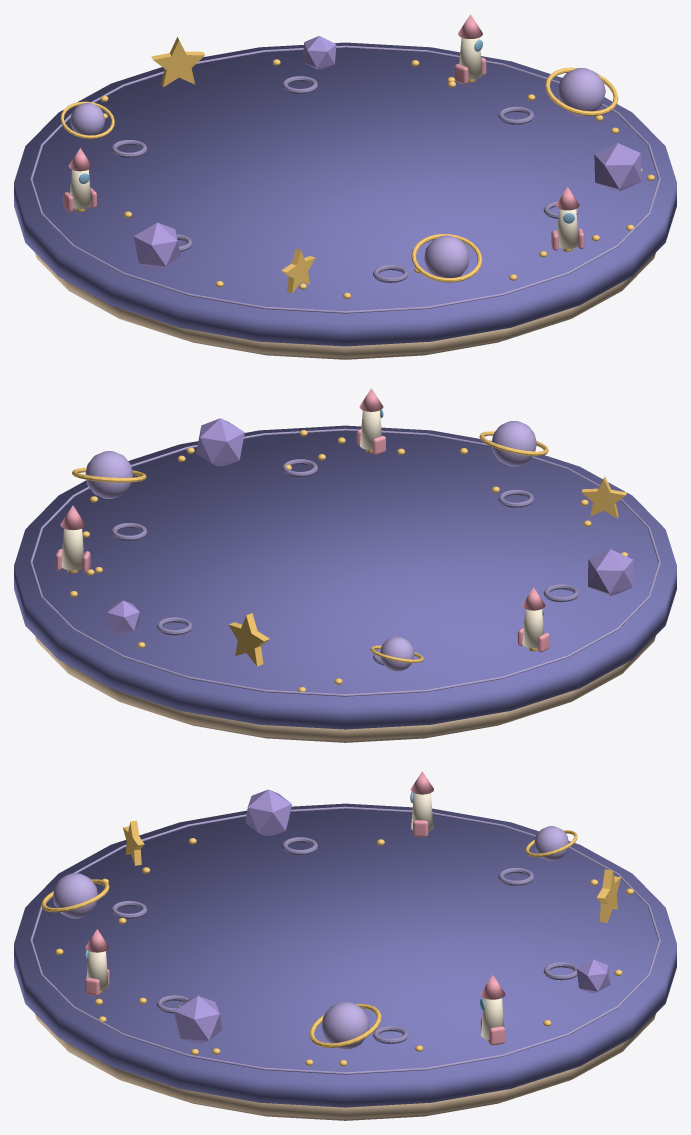
The model's file is world.glb.
The picture shows the model from 3 angles, top to bottom: view 1: azimuth 30°, elevation 25°; view 2: azimuth 150°, elevation 25°; view 3: azimuth 270°, elevation 25°; orthographic projection.
Parts seen in each view (by area): view 1: Cone, Cone.001, Torus.141, planet.001, planet.003, gem.003, gem.002, rocket.001, planet.002, rocket.003, rocket.002, star.001 (+3 smaller); view 2: Cone, Cone.001, Torus.141, planet.001, planet.003, gem.003, gem.002, rocket.001, rocket.002, rocket.003, planet.002, star.001 (+3 smaller); view 3: Cone, Cone.001, Torus.141, planet.001, planet.003, gem.003, gem.002, rocket.001, rocket.003, rocket.002, planet.002, gem.001 (+3 smaller).
Part boxes in pixels (left/top/right/bottom): Cone: left=14, top=42, right=676, bottom=346; Cone.001: left=35, top=253, right=655, bottom=358; Torus.141: left=30, top=45, right=660, bottom=313; planet.001: left=545, top=67, right=618, bottom=115; planet.003: left=411, top=234, right=482, bottom=282; gem.003: left=594, top=143, right=641, bottom=191; gem.002: left=133, top=222, right=180, bottom=268; rocket.001: left=454, top=14, right=486, bottom=84; planet.002: left=60, top=101, right=114, bottom=138; rocket.003: left=551, top=187, right=584, bottom=251; rocket.002: left=63, top=148, right=96, bottom=212; star.001: left=151, top=37, right=204, bottom=87; Cone: left=14, top=425, right=676, bottom=729; Cone.001: left=35, top=636, right=655, bottom=741; Torus.141: left=30, top=428, right=660, bottom=696; planet.001: left=72, top=451, right=146, bottom=498; planet.003: left=479, top=421, right=548, bottom=466; gem.003: left=196, top=418, right=244, bottom=466; gem.002: left=588, top=549, right=633, bottom=595; rocket.001: left=55, top=505, right=90, bottom=573; rocket.002: left=517, top=587, right=549, bottom=652; rocket.003: left=356, top=388, right=385, bottom=454; planet.002: left=370, top=636, right=423, bottom=671; star.001: left=228, top=613, right=269, bottom=666; Cone: left=14, top=803, right=676, bottom=1107; Cone.001: left=35, top=1014, right=655, bottom=1119; Torus.141: left=30, top=806, right=660, bottom=1074; planet.001: left=309, top=1002, right=381, bottom=1049; planet.003: left=41, top=873, right=109, bottom=918; gem.003: left=174, top=996, right=221, bottom=1043; gem.002: left=245, top=789, right=291, bottom=835; rocket.001: left=480, top=975, right=505, bottom=1045; rocket.003: left=85, top=929, right=109, bottom=995; rocket.002: left=410, top=771, right=433, bottom=837; planet.002: left=525, top=826, right=577, bottom=860; gem.001: left=576, top=959, right=610, bottom=993.
Bounding box in the file's own units: 9.6 × 1.82 × 9.6.
